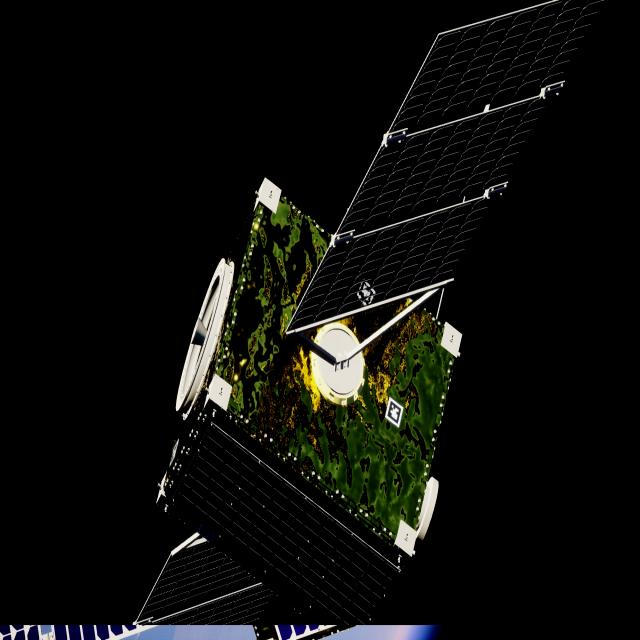medium_debris: (142, 0, 603, 640)
